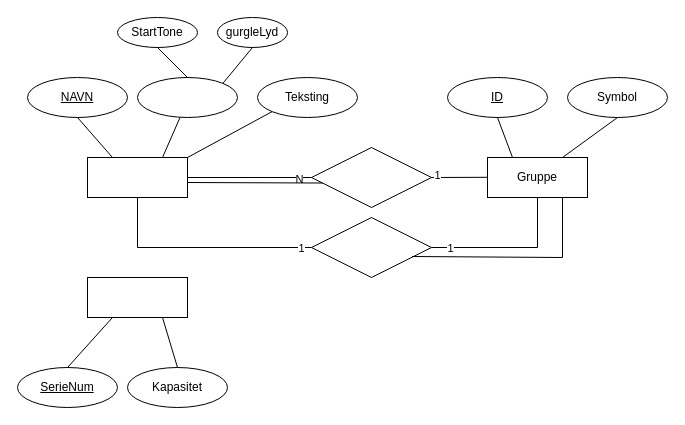
Image size: 685x425. Some labels were removed from this diagram. The centre of each missing label's shape, as x and y in pixels:
"GruppensLeder" goes at point 371,247.
"Lyd" goes at point 187,97.
"organisert_i" goes at point 371,177.
"Romskip" goes at point 137,297.
"romVesen" goes at point 137,177.
